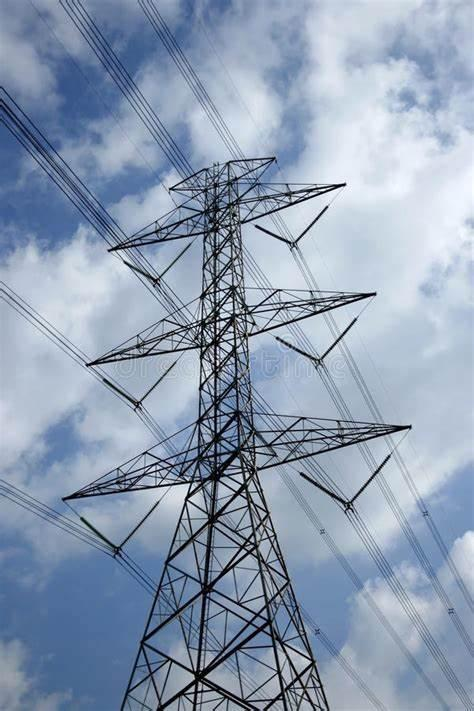power_tower: (85, 153, 420, 711)
